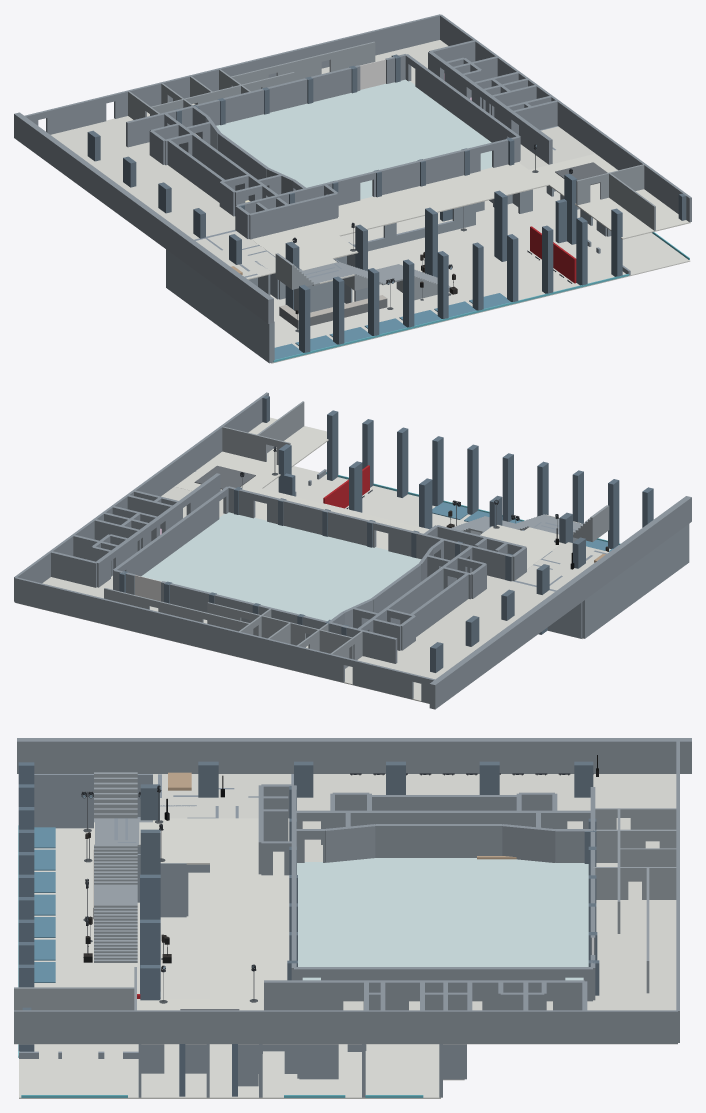
The model's file is combined.glb.
3 renders of one model, top to bottom at view 1: azimuth 30°, elevation 25°; view 2: azimuth 150°, elevation 25°; view 3: azimuth 270°, elevation 25°, orthographic. The views are drawn at different scales.
Parts seen in each view (by area): view 1: F2__Arch_Room_MainHall_zone__web, F1__Floor01_known_lower_footprint__web, F2__Arch_Floor_plate__web, F2__Arch_Room_South_lobby__web, F2__Arch_Wall_F2_verified_outer_west_end__web, F2__Arch_Wall_F2_outer_north.002__web, F2__Arch_Wall_F2_outer_east__web, F1__Wall_west__web, F2__Arch_Wall_F2_verified_hall_north_0__web, F2__Arch_Room_SE_lobby__web, F2__Arch_Wall_F2_verified_hall_south_1__web, F2__Arch_Wall_F2_verified_hall_east_1__web (+25 smaller); view 2: F2__Arch_Room_MainHall_zone__web, F2__Arch_Floor_plate__web, F2__Arch_Wall_F2_outer_north.002__web, F2__Arch_Wall_F2_verified_outer_west_end__web, F2__Arch_Wall_F2_outer_east__web, F1__Wall_west__web, F1__Floor01_known_lower_footprint__web, F2__Arch_Room_South_lobby__web, F2__Arch_Room_SE_lobby__web, F2__Arch_Wall_F2_verified_hall_south_1__web, F2__Arch_Wall_F2_verified_hall_east_1__web, F2__Arch_Wall_F2_verified_hall_north_0__web (+30 smaller); view 3: F2__Arch_Room_MainHall_zone__web, F1__Floor01_known_lower_footprint__web, F2__Arch_Floor_plate__web, F2__Arch_Wall_F2_verified_outer_west_end__web, F2__Arch_Wall_F2_outer_east__web, F2__Arch_Room_South_lobby__web, F2__Arch_Wall_F2_verified_hall_west_bent2__web, F2__Arch_Wall_F2_verified_hall_east_1__web, F2__Arch_Wall_F2_verified_west_core_east_1__web, F1__Wall_west__web, F2__Arch_Wall_F2_se_v_1__web, F2__Arch_Wall_F2_verified_east_corridor_end__web (+38 smaller).
Boxes of the visible parts, x1=… form: F2__Arch_Room_MainHall_zone__web: x1=216, y1=79, x2=492, y2=199; F1__Floor01_known_lower_footprint__web: x1=270, y1=186, x2=690, y2=363; F2__Arch_Floor_plate__web: x1=51, y1=40, x2=690, y2=283; F2__Arch_Room_South_lobby__web: x1=251, y1=162, x2=548, y2=282; F2__Arch_Wall_F2_verified_outer_west_end__web: x1=14, y1=112, x2=273, y2=323; F2__Arch_Wall_F2_outer_north.002__web: x1=114, y1=14, x2=440, y2=118; F2__Arch_Wall_F2_outer_east__web: x1=440, y1=14, x2=691, y2=222; F1__Wall_west__web: x1=166, y1=249, x2=274, y2=363; F2__Arch_Wall_F2_verified_hall_north_0__web: x1=195, y1=65, x2=360, y2=125; F2__Arch_Room_SE_lobby__web: x1=529, y1=154, x2=688, y2=238; F2__Arch_Wall_F2_verified_hall_south_1__web: x1=372, y1=146, x2=480, y2=196; F2__Arch_Wall_F2_verified_hall_east_1__web: x1=415, y1=61, x2=509, y2=142; F2__Arch_Room_MainHall_zone__web: x1=141, y1=512, x2=421, y2=621; F2__Arch_Floor_plate__web: x1=15, y1=422, x2=608, y2=703; F2__Arch_Wall_F2_outer_north.002__web: x1=14, y1=577, x2=344, y2=682; F2__Arch_Wall_F2_verified_outer_west_end__web: x1=429, y1=496, x2=691, y2=709; F2__Arch_Wall_F2_outer_east__web: x1=14, y1=392, x2=268, y2=601; F1__Wall_west__web: x1=582, y1=524, x2=689, y2=638; F1__Floor01_known_lower_footprint__web: x1=263, y1=466, x2=610, y2=638; F2__Arch_Room_South_lobby__web: x1=255, y1=488, x2=580, y2=568; F2__Arch_Room_SE_lobby__web: x1=175, y1=417, x2=328, y2=492; F2__Arch_Wall_F2_verified_hall_south_1__web: x1=267, y1=496, x2=376, y2=547; F2__Arch_Wall_F2_verified_hall_east_1__web: x1=123, y1=494, x2=219, y2=576; F2__Arch_Wall_F2_verified_hall_north_0__web: x1=161, y1=581, x2=326, y2=638; F2__Arch_Room_MainHall_zone__web: x1=297, y1=858, x2=588, y2=980; F1__Floor01_known_lower_footprint__web: x1=19, y1=828, x2=464, y2=1098; F2__Arch_Floor_plate__web: x1=14, y1=774, x2=677, y2=1044; F2__Arch_Wall_F2_verified_outer_west_end__web: x1=17, y1=738, x2=691, y2=773; F2__Arch_Wall_F2_outer_east__web: x1=14, y1=1010, x2=677, y2=1043; F2__Arch_Room_South_lobby__web: x1=94, y1=818, x2=289, y2=998; F2__Arch_Wall_F2_verified_hall_west_bent2__web: x1=375, y1=824, x2=502, y2=857; F2__Arch_Wall_F2_verified_hall_east_1__web: x1=321, y1=967, x2=565, y2=1001; F2__Arch_Wall_F2_verified_west_core_east_1__web: x1=321, y1=810, x2=567, y2=844; F1__Wall_west__web: x1=34, y1=774, x2=152, y2=828; F2__Arch_Wall_F2_se_v_1__web: x1=14, y1=987, x2=135, y2=1010; F2__Arch_Wall_F2_verified_east_corridor_end__web: x1=264, y1=980, x2=343, y2=1010.
Size of the model in its own units: 54.97 by 8.94 by 57.45.
89 materials, 2 textured.
